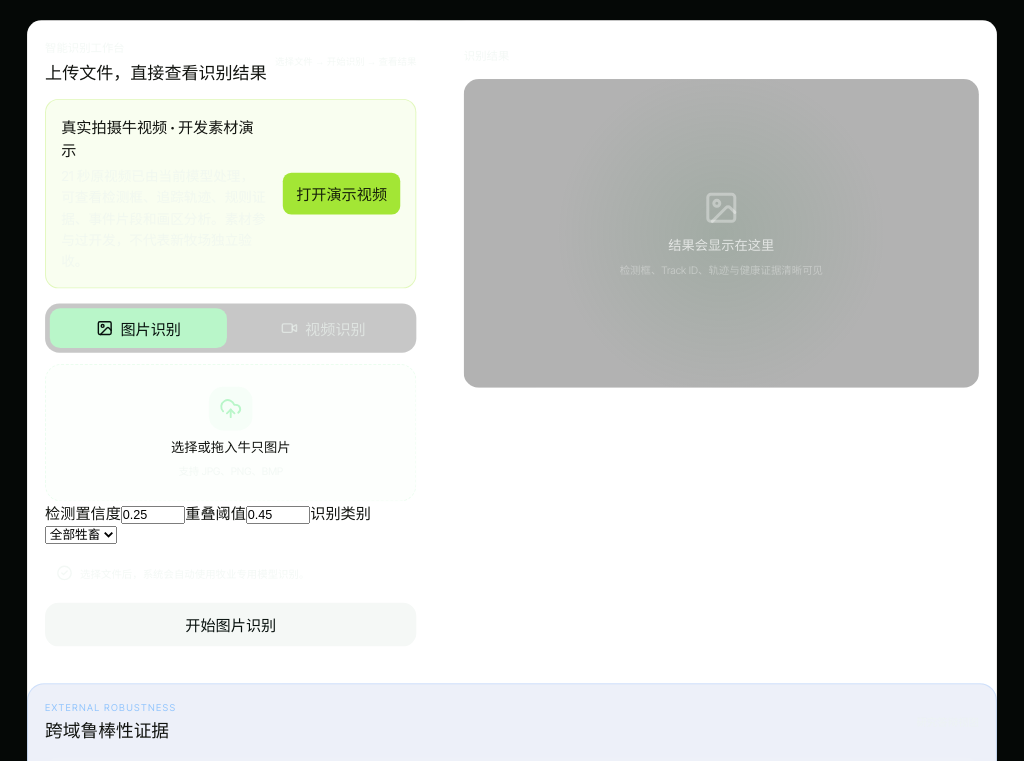
tells the operator how to restore the demo when the recorded task is missing
The width and height of the screenshot is (1024, 761).
Click the button "打开演示视频" at (342, 193), box [283,173,400,214]
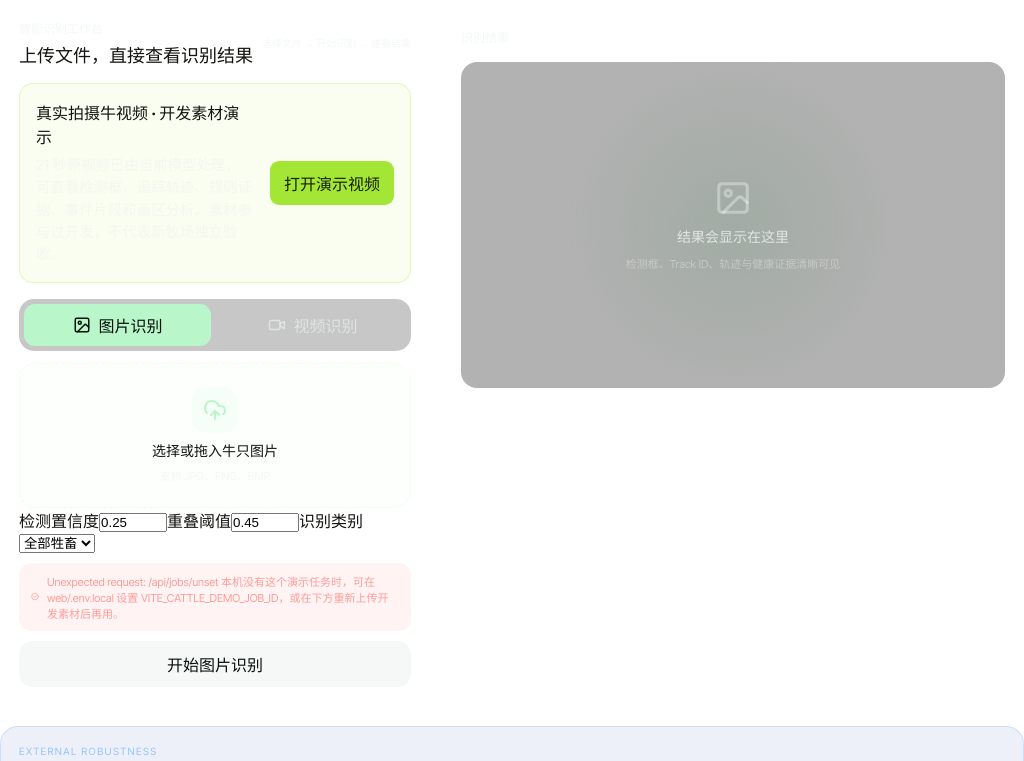
expect the text "重新上传" is shown: met, box [47,575,388,621]
